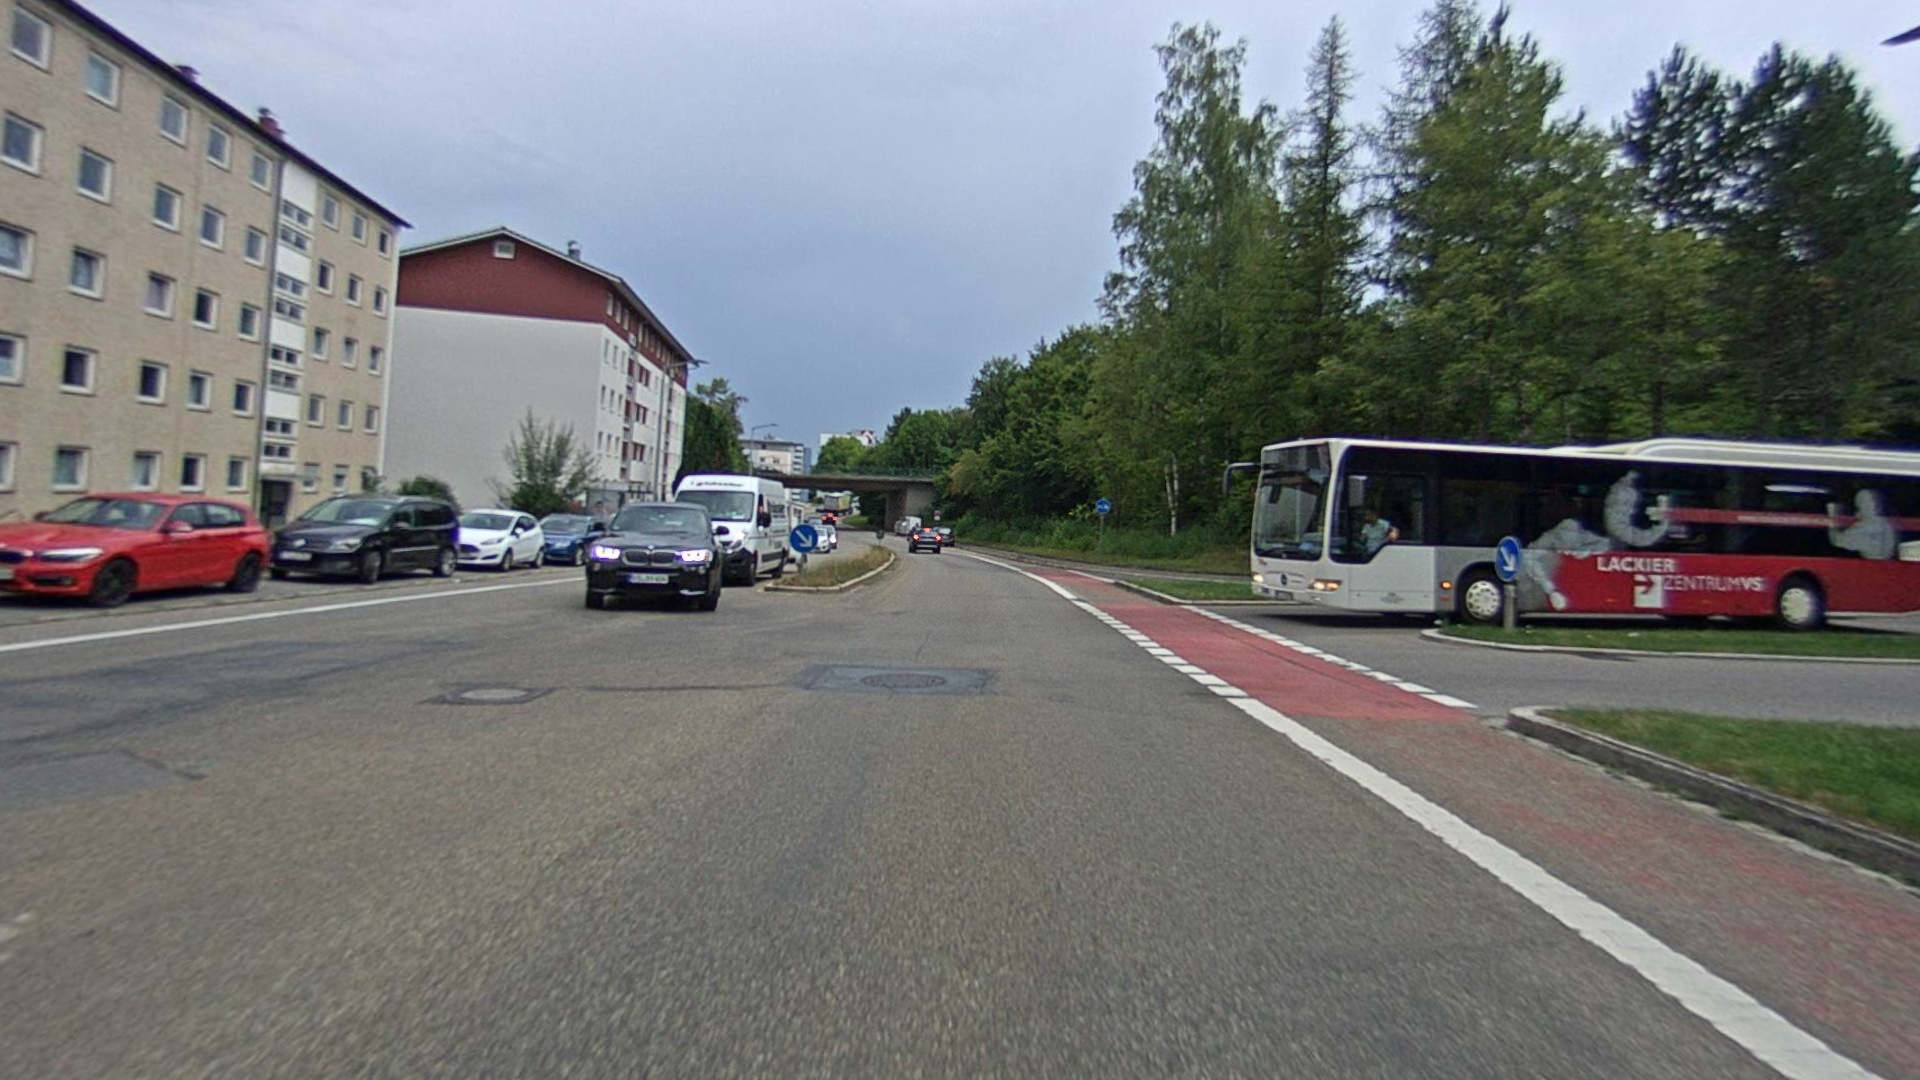bus: (1250, 440, 1915, 626)
car: (582, 498, 723, 613)
